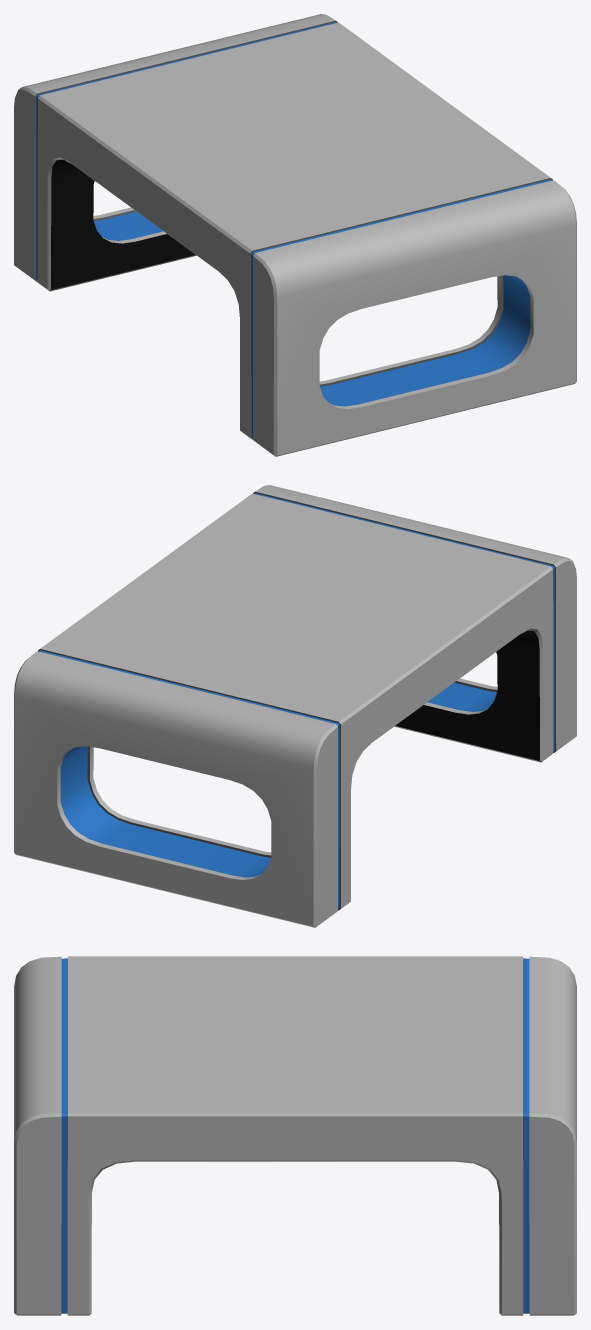
File: W_O_Cafe_Table_001_L0.fbx
3 renders of one model, top to bottom at view 1: azimuth 30°, elevation 25°; view 2: azimuth 150°, elevation 25°; view 3: azimuth 270°, elevation 25°, orthographic. The views are drawn at different scales.
Visible parts, largest first — view 1: W_O_Cafe_Table_001_L0; view 2: W_O_Cafe_Table_001_L0; view 3: W_O_Cafe_Table_001_L0.
Part boxes in pixels (box(x1,y1,x2,y2)): W_O_Cafe_Table_001_L0: box(14, 14, 576, 456); W_O_Cafe_Table_001_L0: box(14, 485, 576, 927); W_O_Cafe_Table_001_L0: box(14, 956, 576, 1315).
Bounding box in the file's own units: 0.42 × 0.25 × 0.6295.
